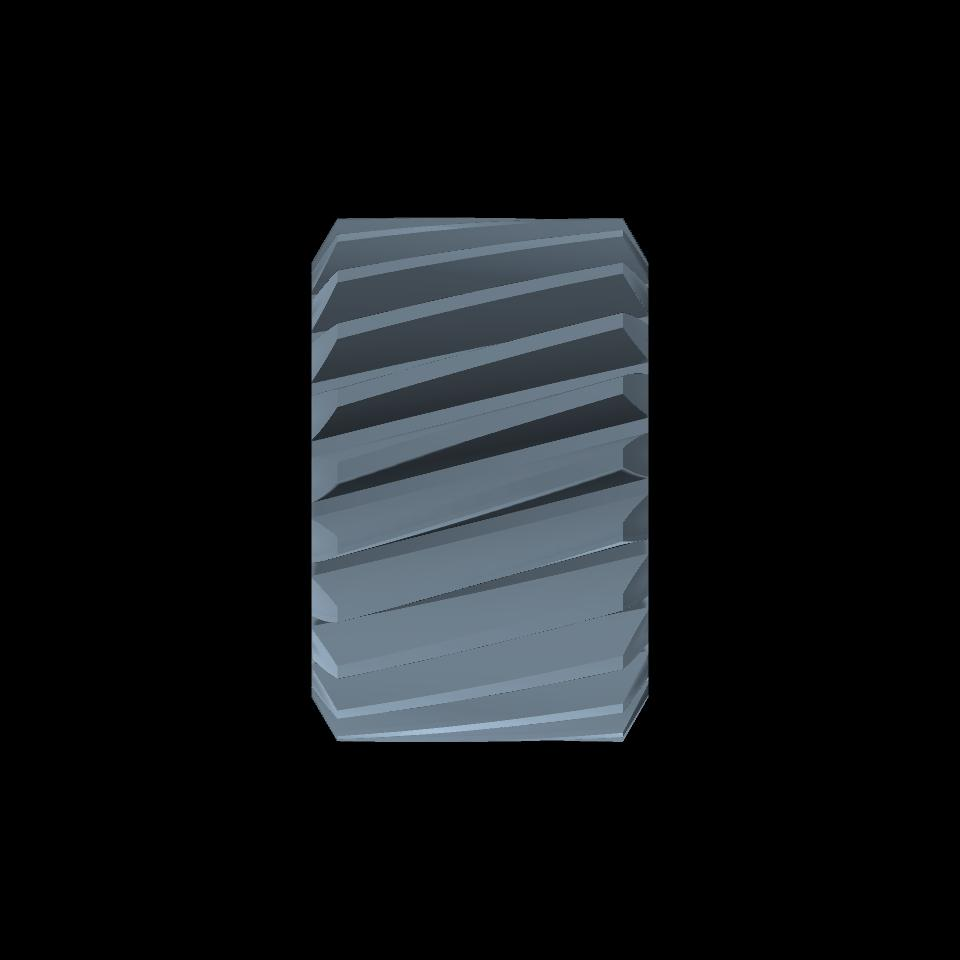Helical: (338, 218, 622, 740)
